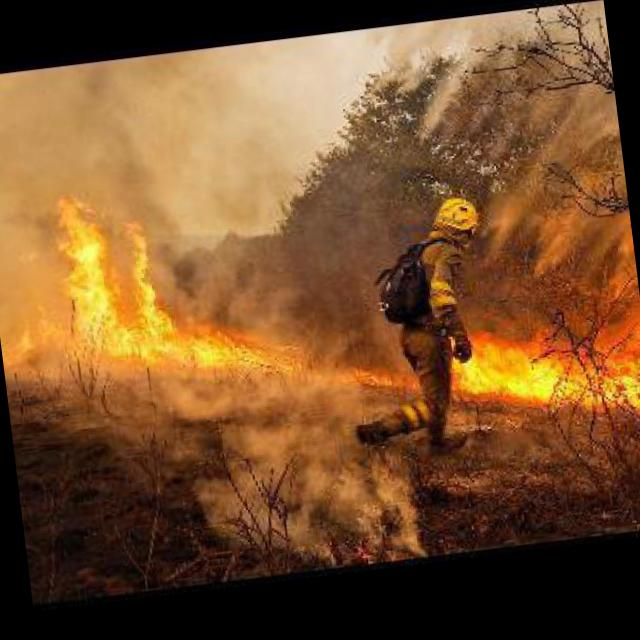fire: (0, 172, 302, 410), (440, 304, 640, 441)
